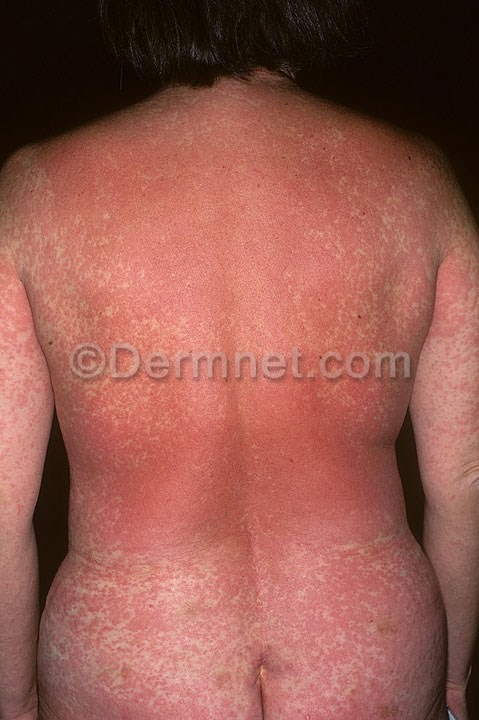Psoriasis: (5, 149, 219, 514), (50, 532, 450, 720), (303, 111, 479, 425)
